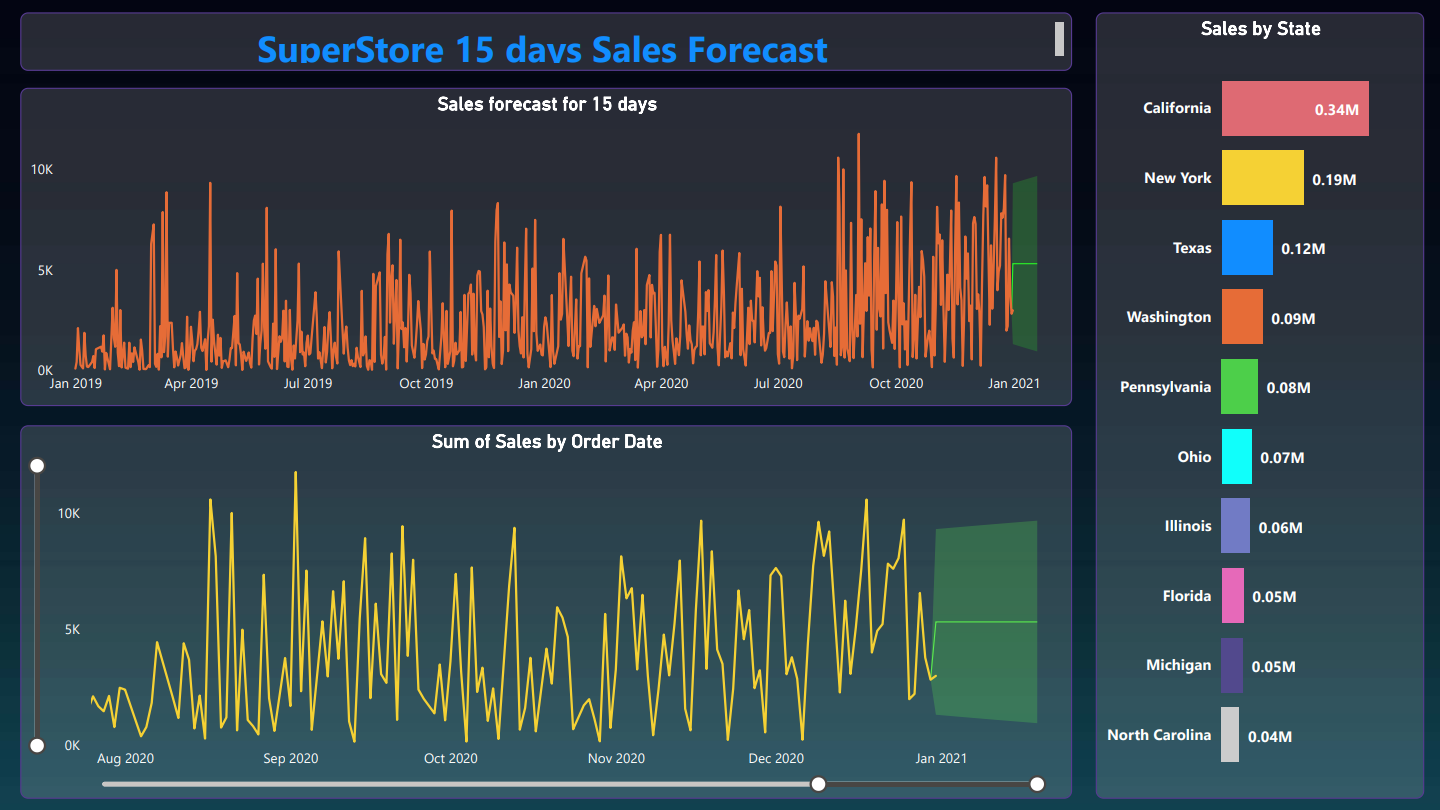

Layout of this report page (visuals, bound fields, positions):
{"tool":"powerbi","page":{"name":"Forecasting","canvas":[1280,720],"ordinal":1},"visuals":[{"type":"lineChart","title":"Sales forecast for 15 days","fields":{"Y":["Sum(SuperStore_Sales_Dataset.Sales)"],"Category":["SuperStore_Sales_Dataset.Order Date"]},"box":[17.8,77.9,934.8,282.7],"z":0},{"type":"lineChart","fields":{"Y":["Sum(SuperStore_Sales_Dataset.Sales)"],"Category":["SuperStore_Sales_Dataset.Order Date"]},"box":[17.8,378.4,934.8,331.6],"z":1000},{"type":"textbox","box":[17.8,11.1,934.8,52.3],"z":2000},{"type":"clusteredBarChart","title":"Sales by State","fields":{"Category":["SuperStore_Sales_Dataset.State"],"Y":["Sum(SuperStore_Sales_Dataset.Sales)"]},"box":[973.7,11.1,292.7,698.9],"z":3000}]}

Visuals, with their boxes in screenshot pixels (x1, y1, x2, y2), scaled from the page's 1280x720 canvas onto the 1440x810 screenshot:
"Sales forecast for 15 days" lineChart: Rect(20, 88, 1072, 406)
lineChart - Sum(SuperStore_Sales_Dataset.Sales) x SuperStore_Sales_Dataset.Order Date: Rect(20, 426, 1072, 799)
textbox: Rect(20, 12, 1072, 71)
"Sales by State" clusteredBarChart: Rect(1095, 12, 1425, 799)
